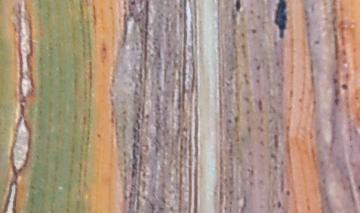tarspot: (272, 1, 289, 41), (232, 1, 244, 14), (268, 151, 278, 164), (272, 133, 280, 149), (256, 98, 263, 113), (332, 85, 340, 98), (288, 87, 295, 99), (275, 199, 283, 209), (284, 188, 292, 197), (332, 97, 341, 105), (330, 76, 338, 85), (239, 31, 247, 39), (311, 39, 320, 46), (272, 164, 279, 173), (233, 114, 239, 124), (341, 82, 348, 90), (250, 27, 257, 35), (255, 64, 262, 71), (144, 113, 150, 119), (241, 71, 247, 77), (256, 13, 261, 20), (96, 132, 101, 139), (255, 78, 260, 84), (357, 184, 360, 191)
